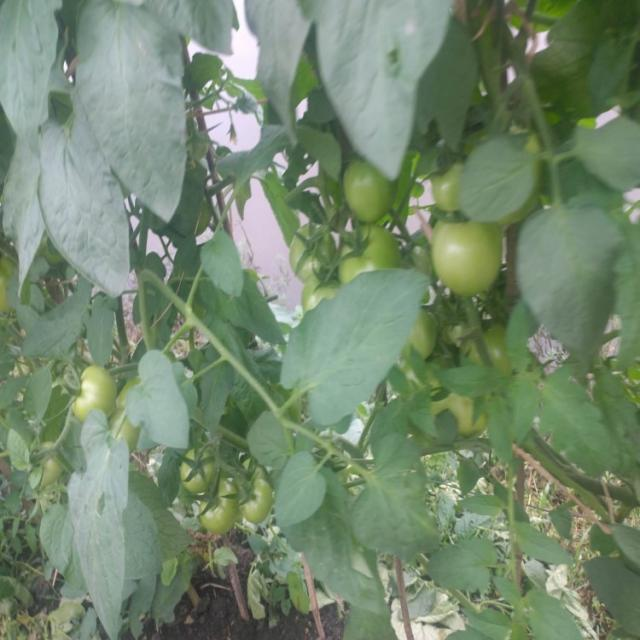tomato: (425, 217, 512, 300), (344, 158, 403, 227), (428, 388, 493, 441), (344, 228, 410, 280), (283, 219, 336, 272), (467, 324, 518, 374), (193, 485, 239, 533), (407, 310, 447, 364), (73, 367, 109, 421), (238, 478, 280, 523), (428, 156, 464, 206), (180, 446, 221, 489), (303, 269, 345, 309), (117, 377, 141, 442), (31, 446, 69, 482)
